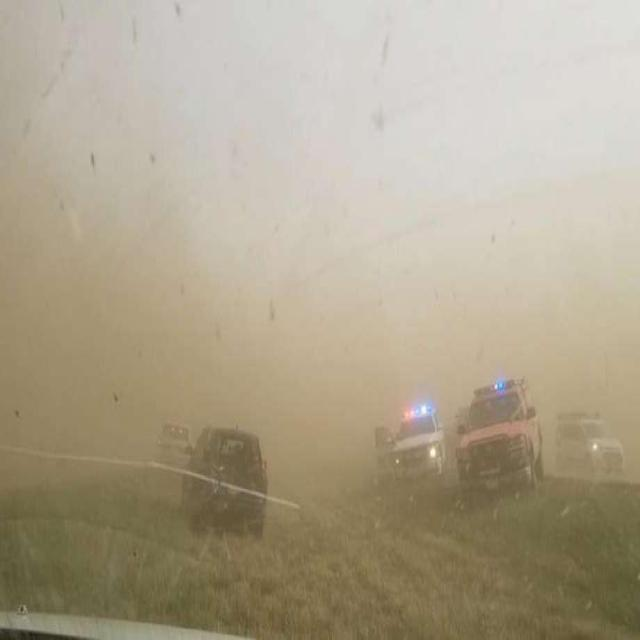Car: (457, 358, 537, 494), (191, 409, 270, 545), (368, 383, 442, 505), (552, 380, 623, 475), (160, 399, 190, 488)
